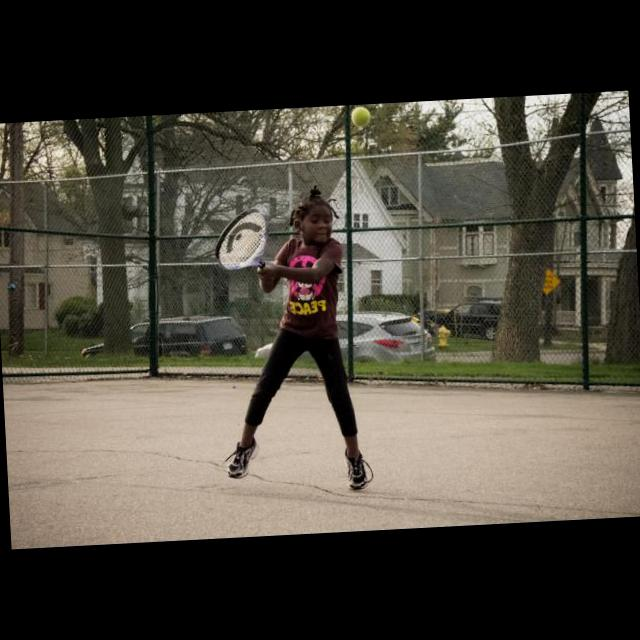Tennis Ball: (351, 105, 372, 126)
